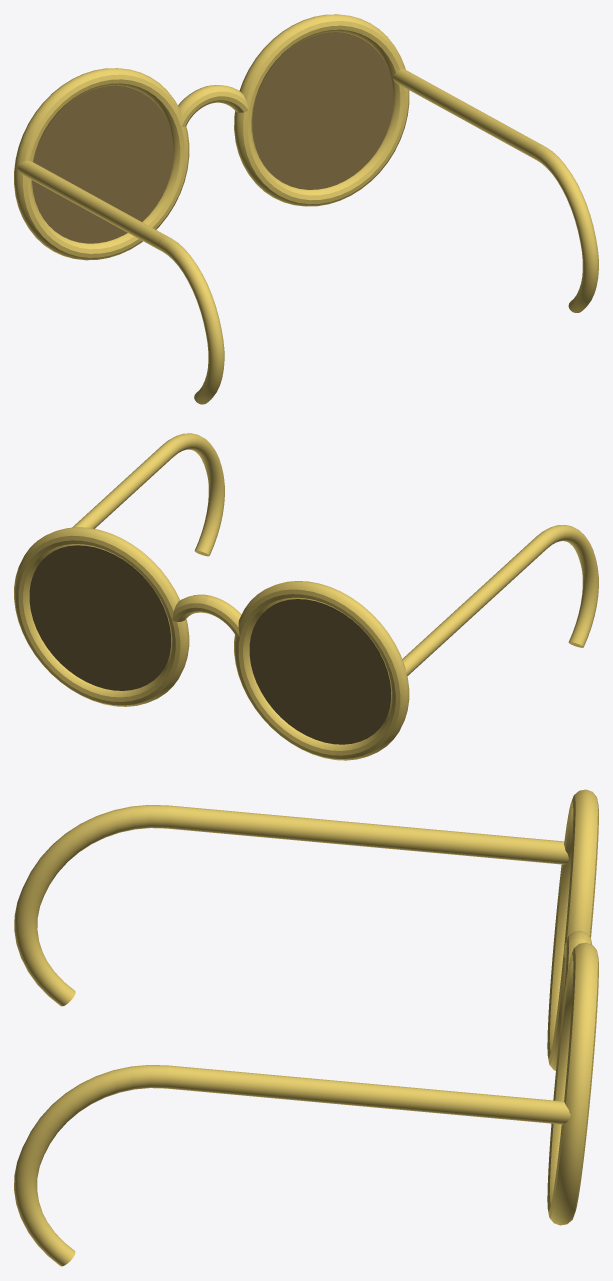
File: eyewear.fbx
3 renders of one model, top to bottom at view 1: azimuth 30°, elevation 25°; view 2: azimuth 150°, elevation 25°; view 3: azimuth 270°, elevation 25°, orthographic. The views are drawn at different scales.
Parts seen in each view (by area): view 1: Kehykset, Linssi2, Linssi, Sanka2, Sanka; view 2: Kehykset, Linssi, Linssi2, Sanka2, Sanka; view 3: Sanka, Sanka2, Kehykset.
Boxes of the visible parts, x1,y1,x2,y2 form: Kehykset: (14, 14, 409, 260); Linssi2: (252, 32, 393, 189); Linssi: (32, 85, 173, 243); Sanka2: (17, 160, 224, 404); Sanka: (392, 69, 598, 312); Kehykset: (14, 527, 409, 760); Linssi: (249, 599, 391, 744); Linssi2: (29, 545, 170, 690); Sanka2: (402, 525, 598, 675); Sanka: (72, 433, 224, 556); Sanka: (14, 1065, 570, 1266); Sanka2: (14, 805, 568, 1006); Kehykset: (547, 789, 598, 1225).
Bounding box in the file's own units: 0.1375 × 0.0602 × 0.1244.
